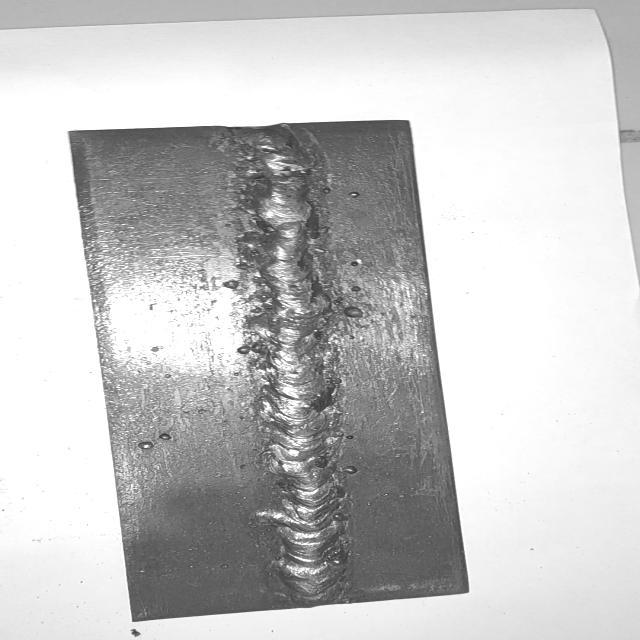Defect: (228, 128, 324, 190)
Welding Line: (252, 132, 347, 602)
Workpiece: (59, 116, 483, 626)
